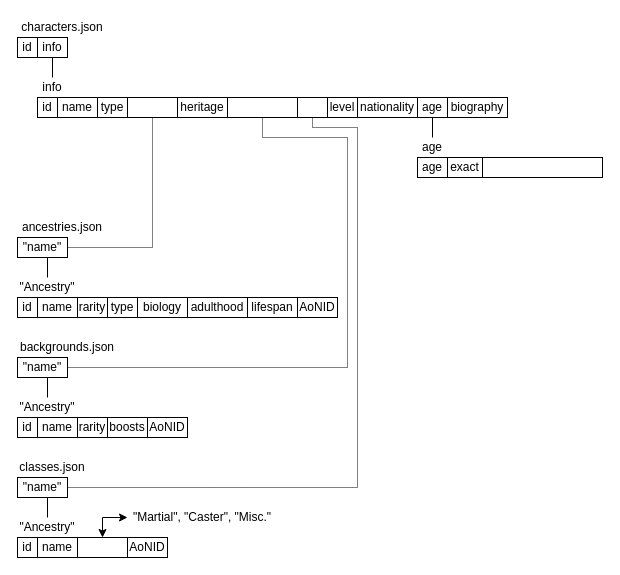
This 620x575 diagram has some shape labels left out. The shapes that lost their labels are listed below. From the top down, each one's centre as x and y in pixels, then its label:
At point 152,107: "ancestry".
At point 262,107: "background".
At point 312,107: "class".
At point 542,167: "calculateHumanYears".
At point 102,547: "category".
